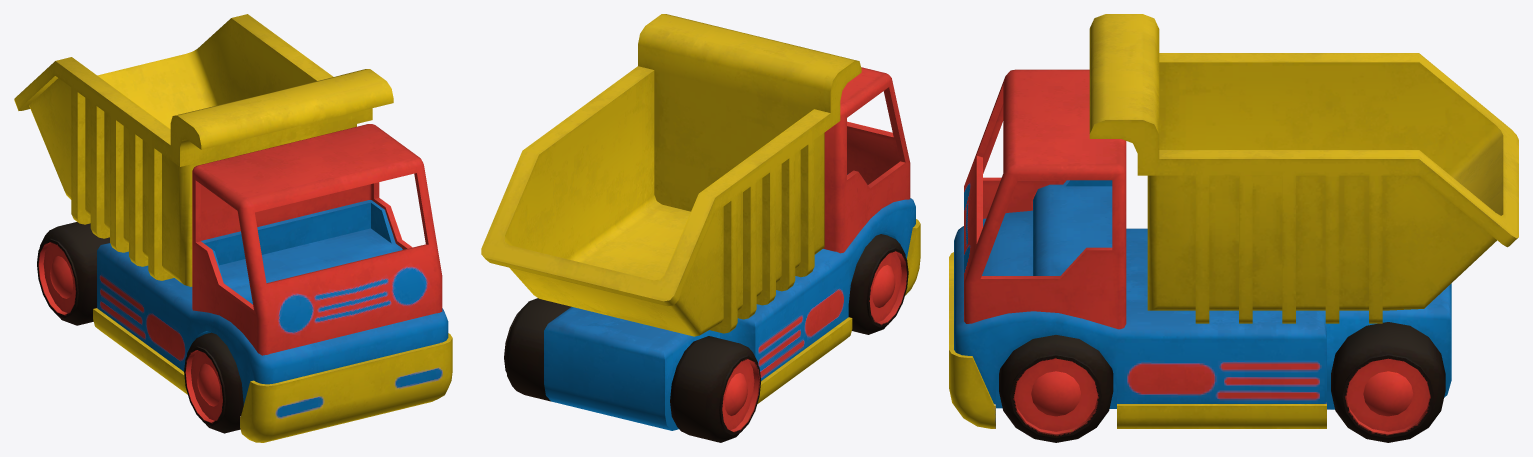
The model's file is SM_Truck.fbx.
3 renders of one model, left to right at view 1: azimuth 30°, elevation 25°; view 2: azimuth 150°, elevation 25°; view 3: azimuth 270°, elevation 25°, orthographic. The views are drawn at different scales.
Visible parts, largest first — view 1: SM_Truck__1_; view 2: SM_Truck__1_; view 3: SM_Truck__1_.
Part boxes in pixels (bbox=[...]): SM_Truck__1_: bbox=[14, 14, 452, 442]; SM_Truck__1_: bbox=[481, 14, 920, 442]; SM_Truck__1_: bbox=[949, 14, 1518, 442].
Size of the model in its own units: 23.04 by 28.57 by 45.8.
